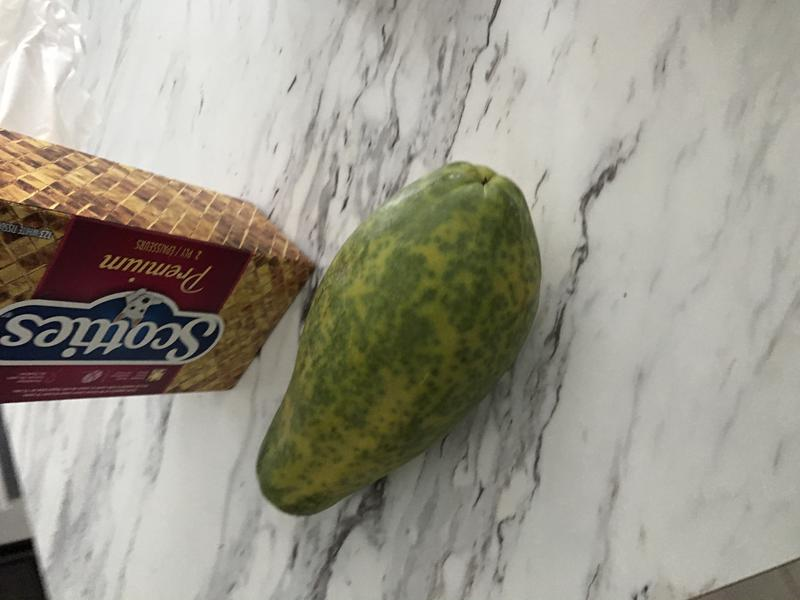papaya: (254, 152, 548, 528)
